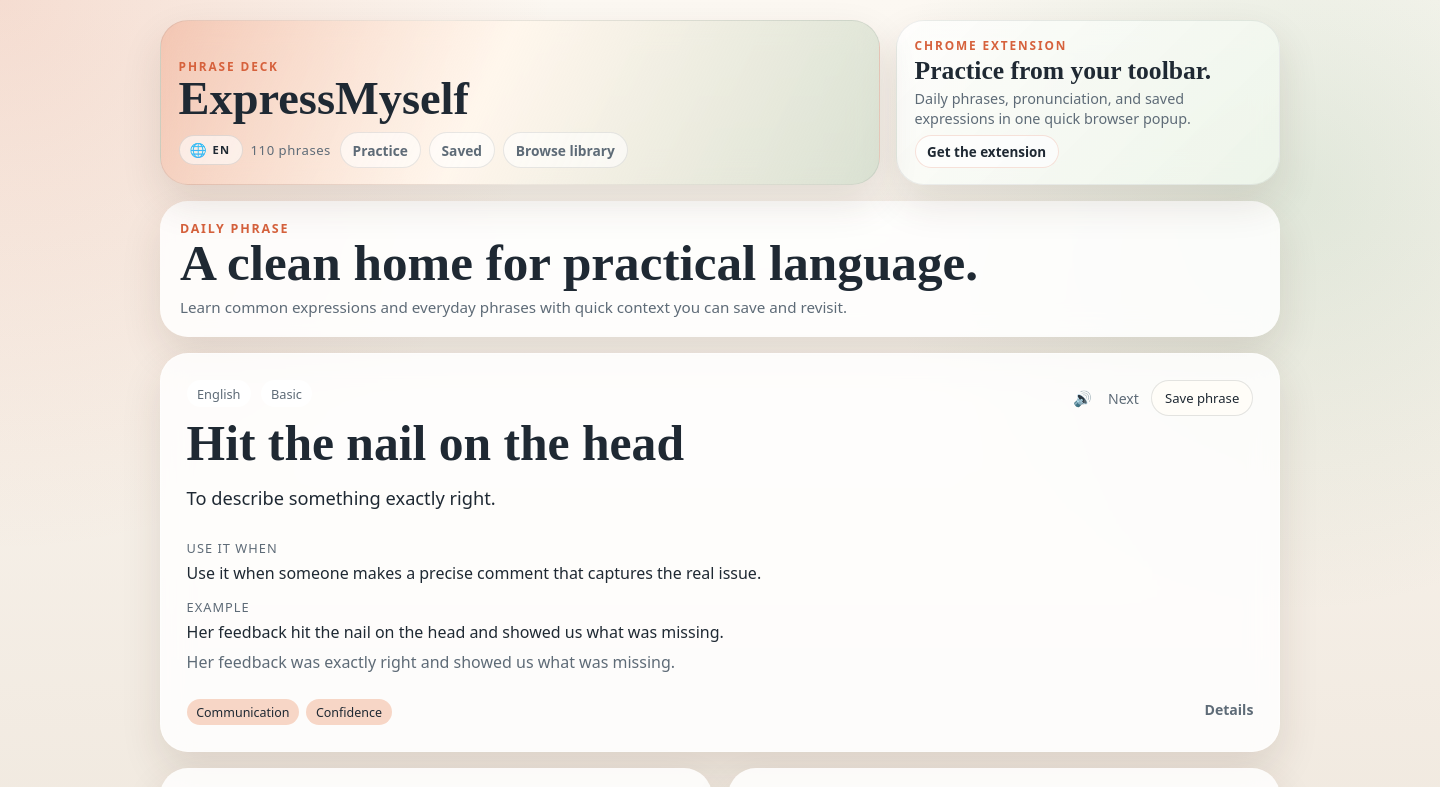
Scenario: HomeExperience › shows a different expression when next is clicked
Click the button "Next": click(1123, 398) [1104,383,1143,413]
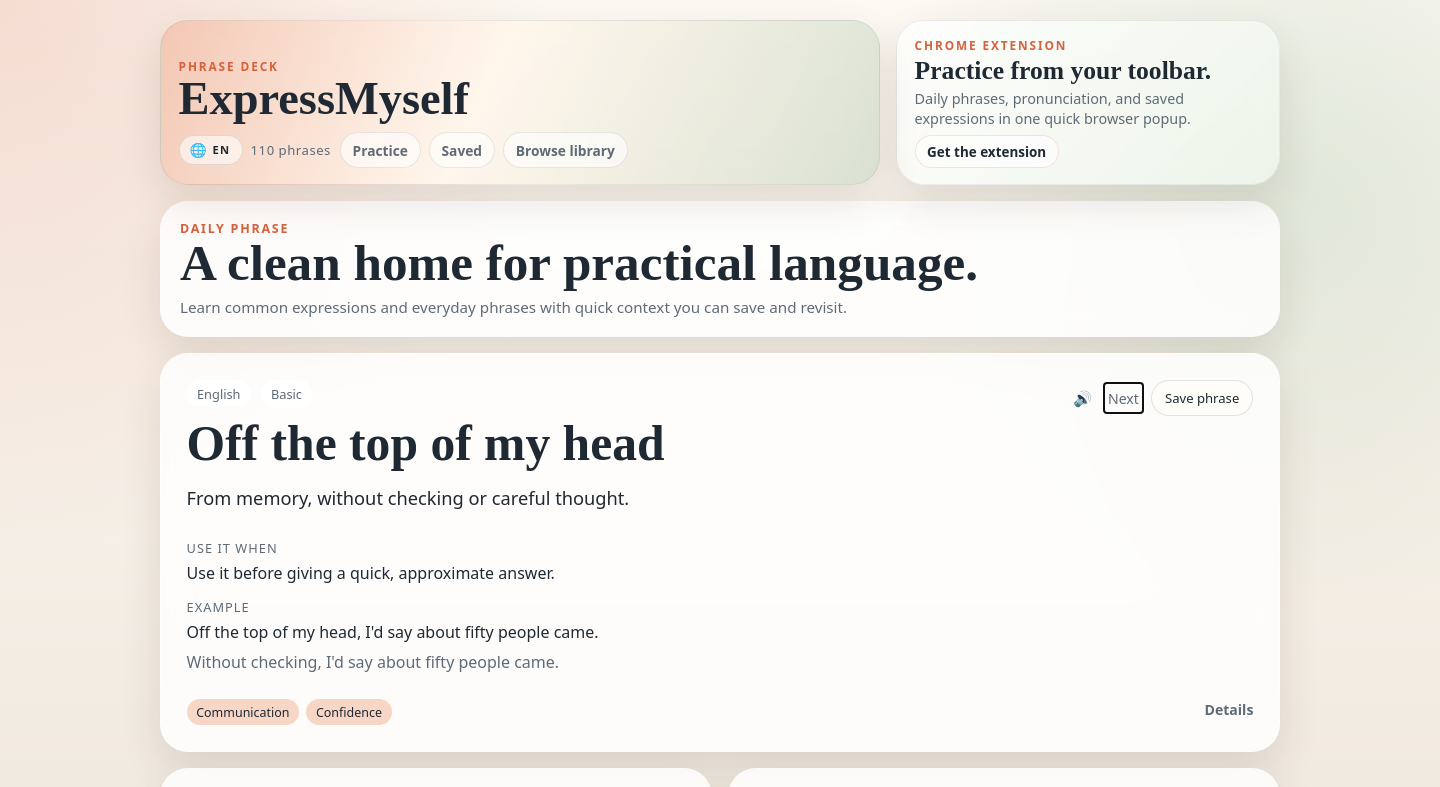
Expected: the heading "Hit the nail on the head" no longer shows "Hit the nail on the head"
